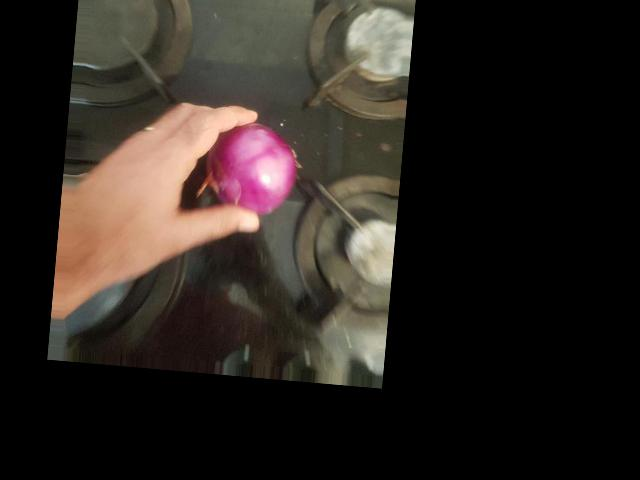onion: (259, 39, 349, 131)
